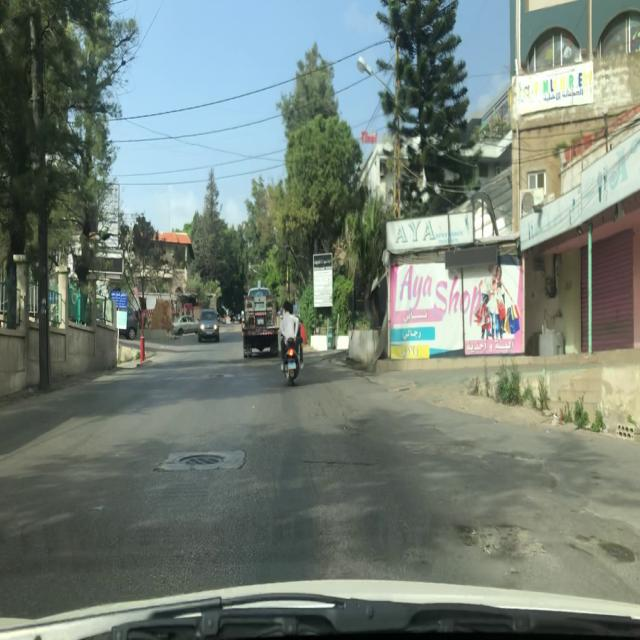Pothole: (453, 517, 547, 558)
